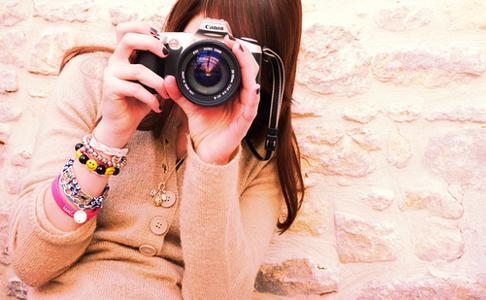person: (2, 2, 304, 300)
